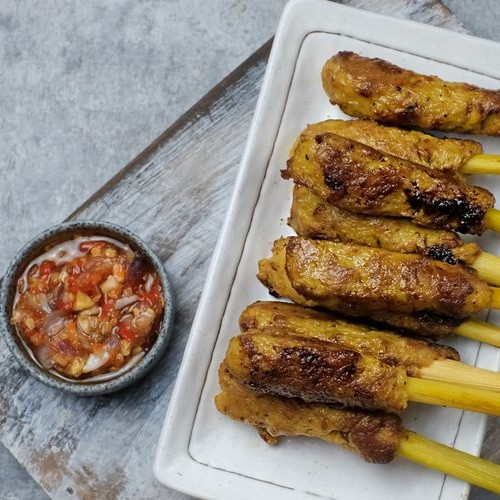sate languan: (231, 329, 500, 446), (267, 230, 500, 332), (287, 125, 500, 235), (306, 43, 500, 153)
